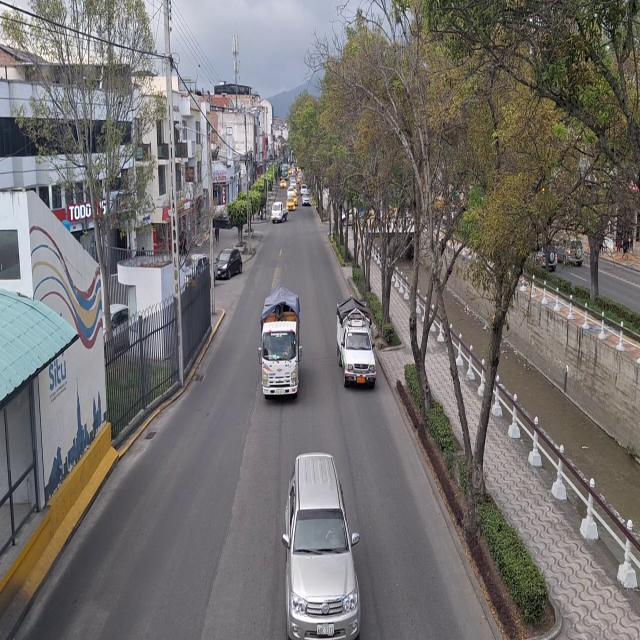CMT: (334, 297, 380, 389)
TRUCK: (262, 296, 300, 399)
